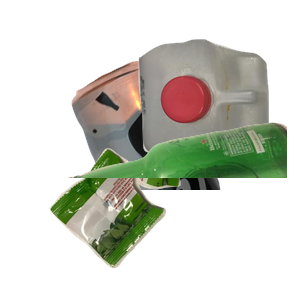glass: (60, 120, 300, 300)
metal: (69, 58, 300, 238)
plastic: (136, 37, 300, 188)
trash: (47, 146, 220, 300)
